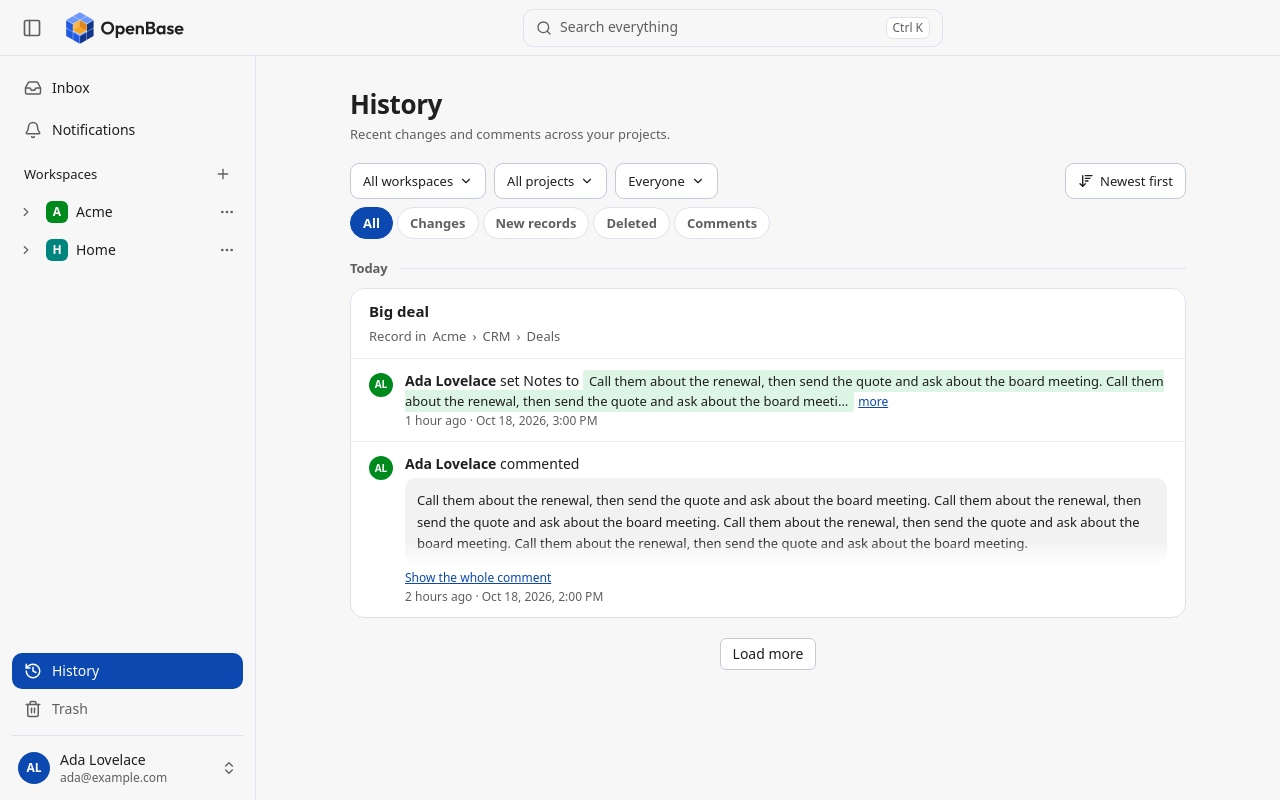
it: History page › cuts long values and comments until asked for the rest
Click the button "more" at (873, 402), box top-left (858, 394), bottom-right (888, 410)
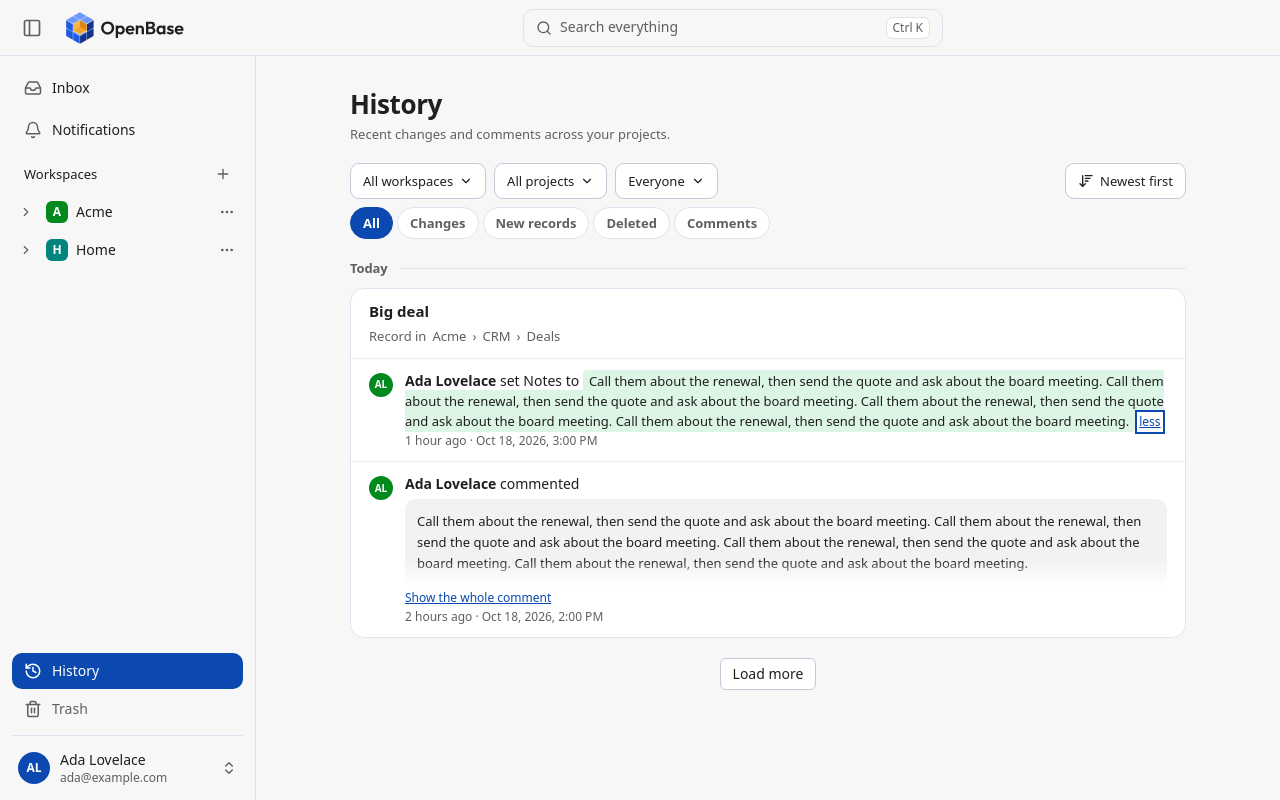
Click the button "less" at (1150, 422), box top-left (1139, 414), bottom-right (1161, 430)
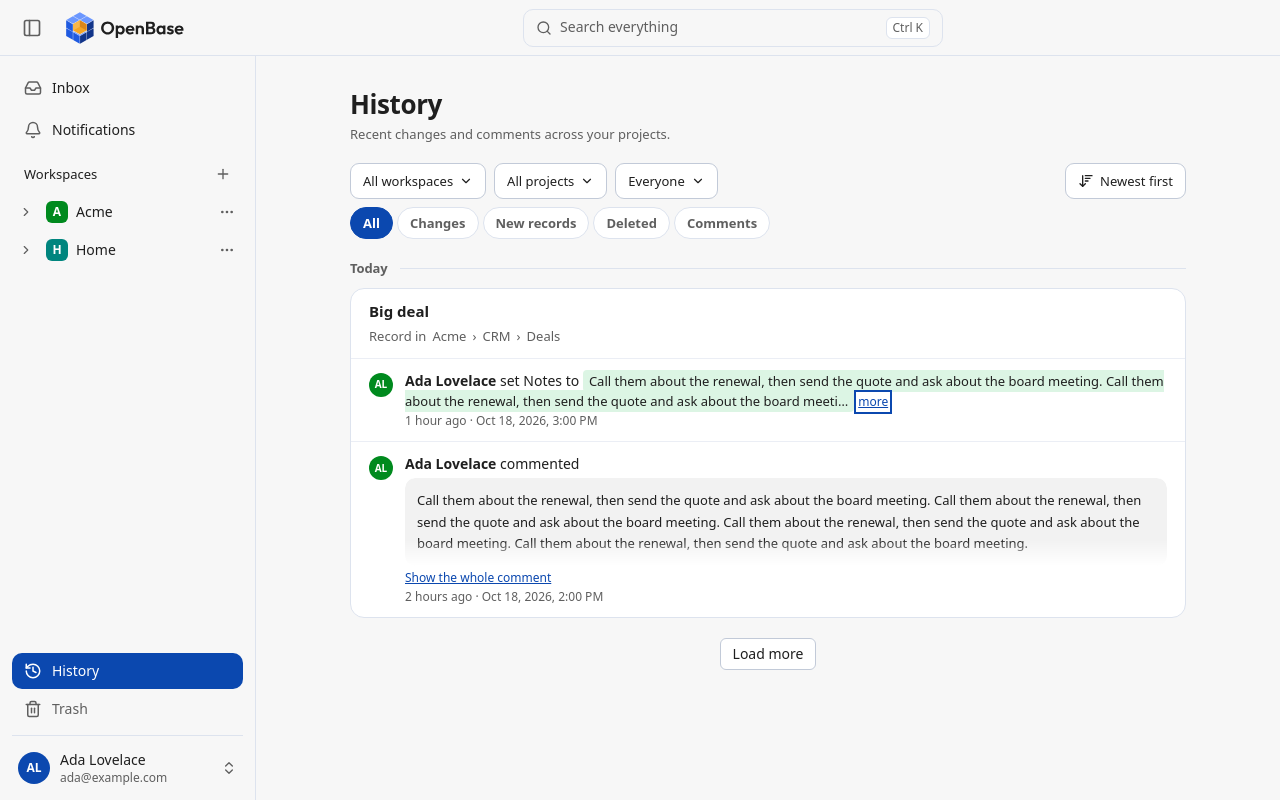
Click the button "Show the whole comment" at (478, 578), box top-left (405, 570), bottom-right (551, 586)
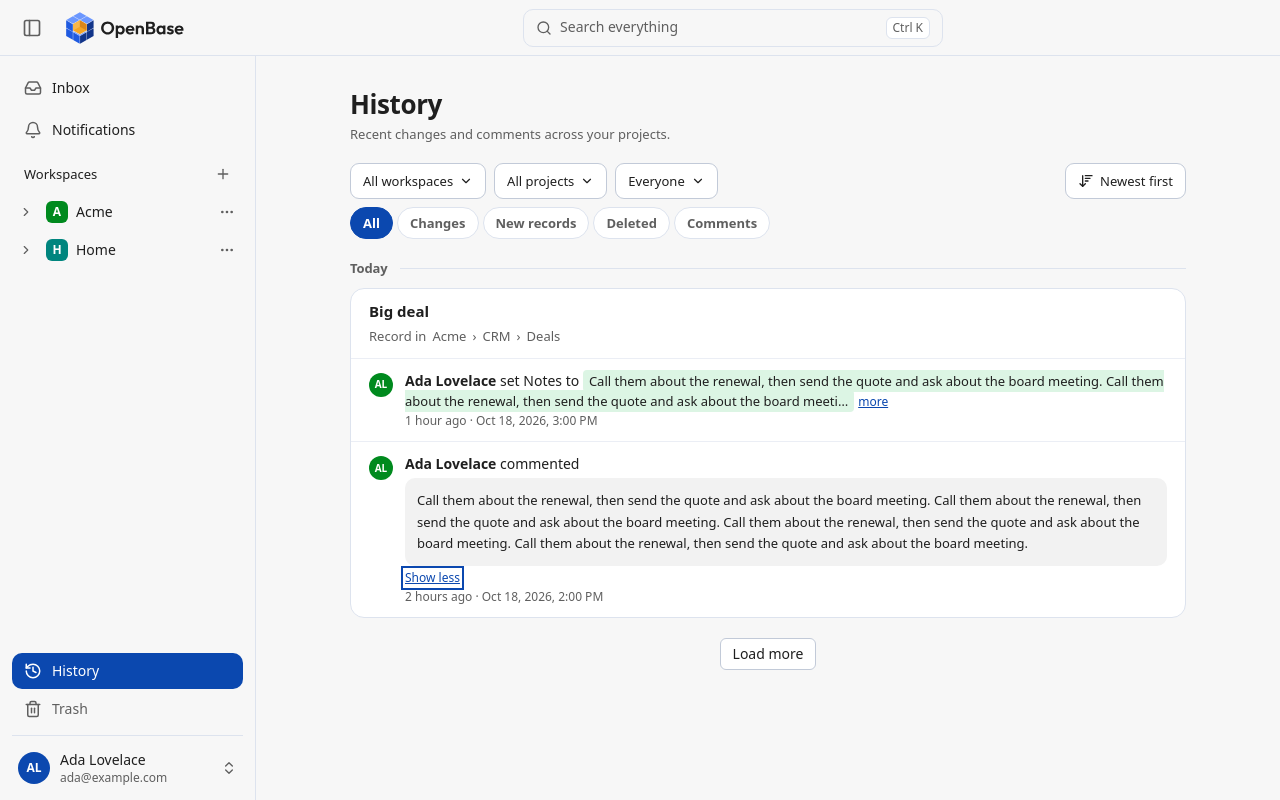
Now the button "Show less" is expanded, box top-left (405, 570), bottom-right (460, 586)
